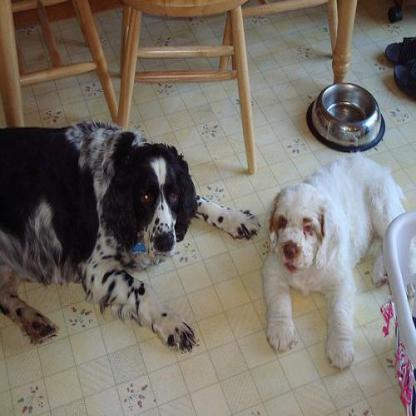clumber: (0, 121, 257, 352), (258, 150, 413, 370)
